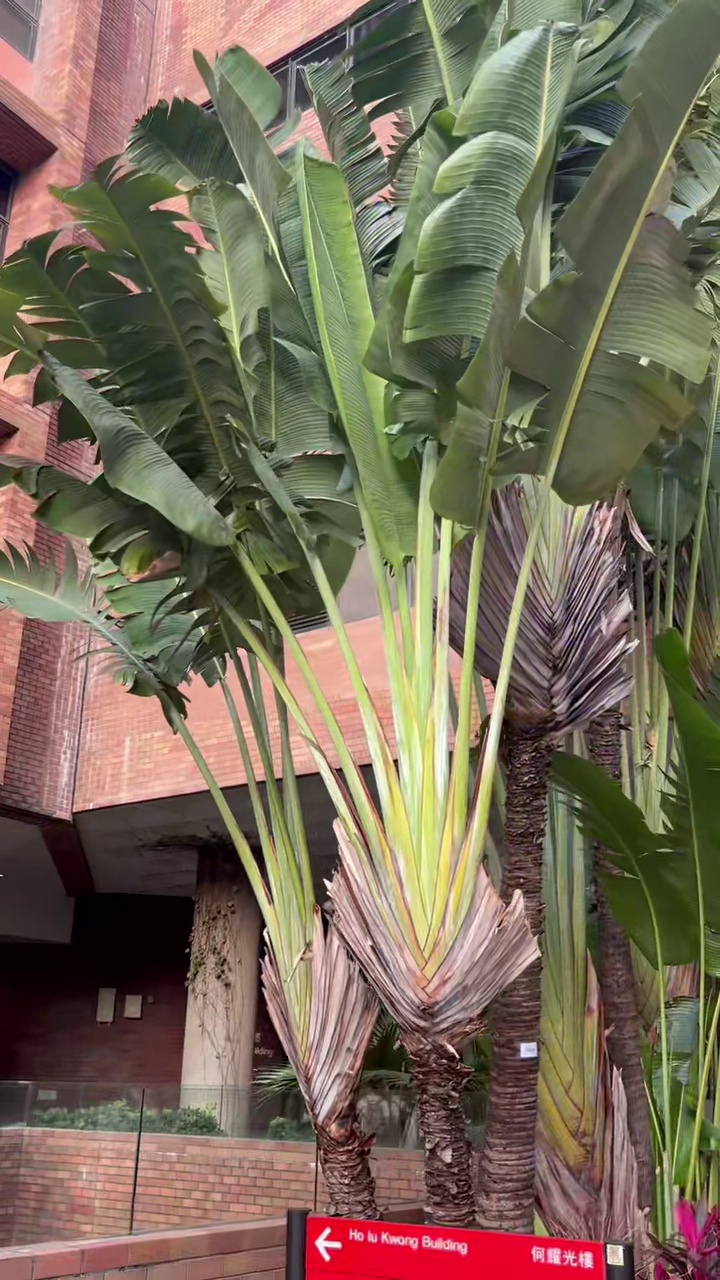Travellers-tree: (0, 0, 719, 1230)
